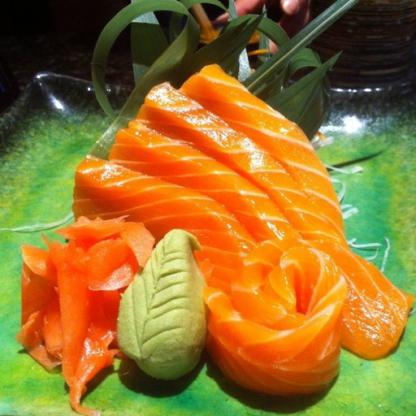salmon: (71, 63, 408, 399)
